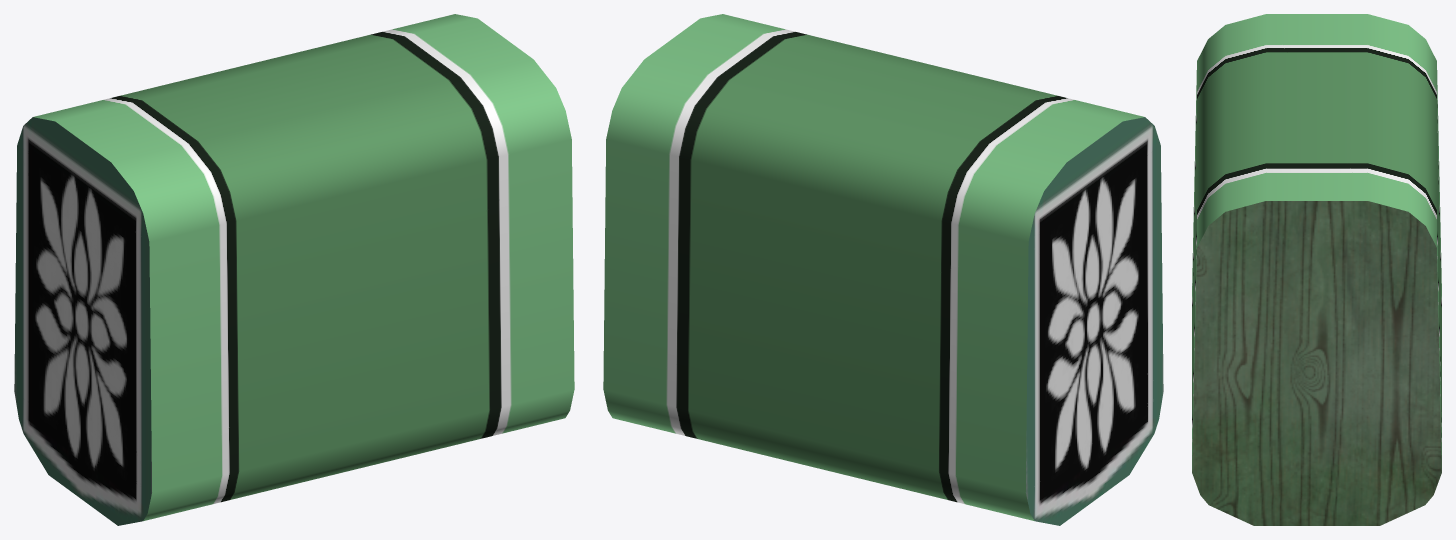
Rendered from SM_R_Beam_9.fbx.
The picture shows the model from 3 angles, left to right: view 1: azimuth 30°, elevation 25°; view 2: azimuth 150°, elevation 25°; view 3: azimuth 270°, elevation 25°; orthographic projection. The views are drawn at different scales.
Visible parts, largest first — view 1: SM_R_Beam_9; view 2: SM_R_Beam_9; view 3: SM_R_Beam_9.
Part boxes in pixels (box(x1,y1,x2,y2)): SM_R_Beam_9: box(14, 14, 574, 525); SM_R_Beam_9: box(603, 14, 1163, 525); SM_R_Beam_9: box(1192, 14, 1441, 525).
Size of the model in its own units: 53.12 by 30 by 43.09.
3 materials, 3 textured.
